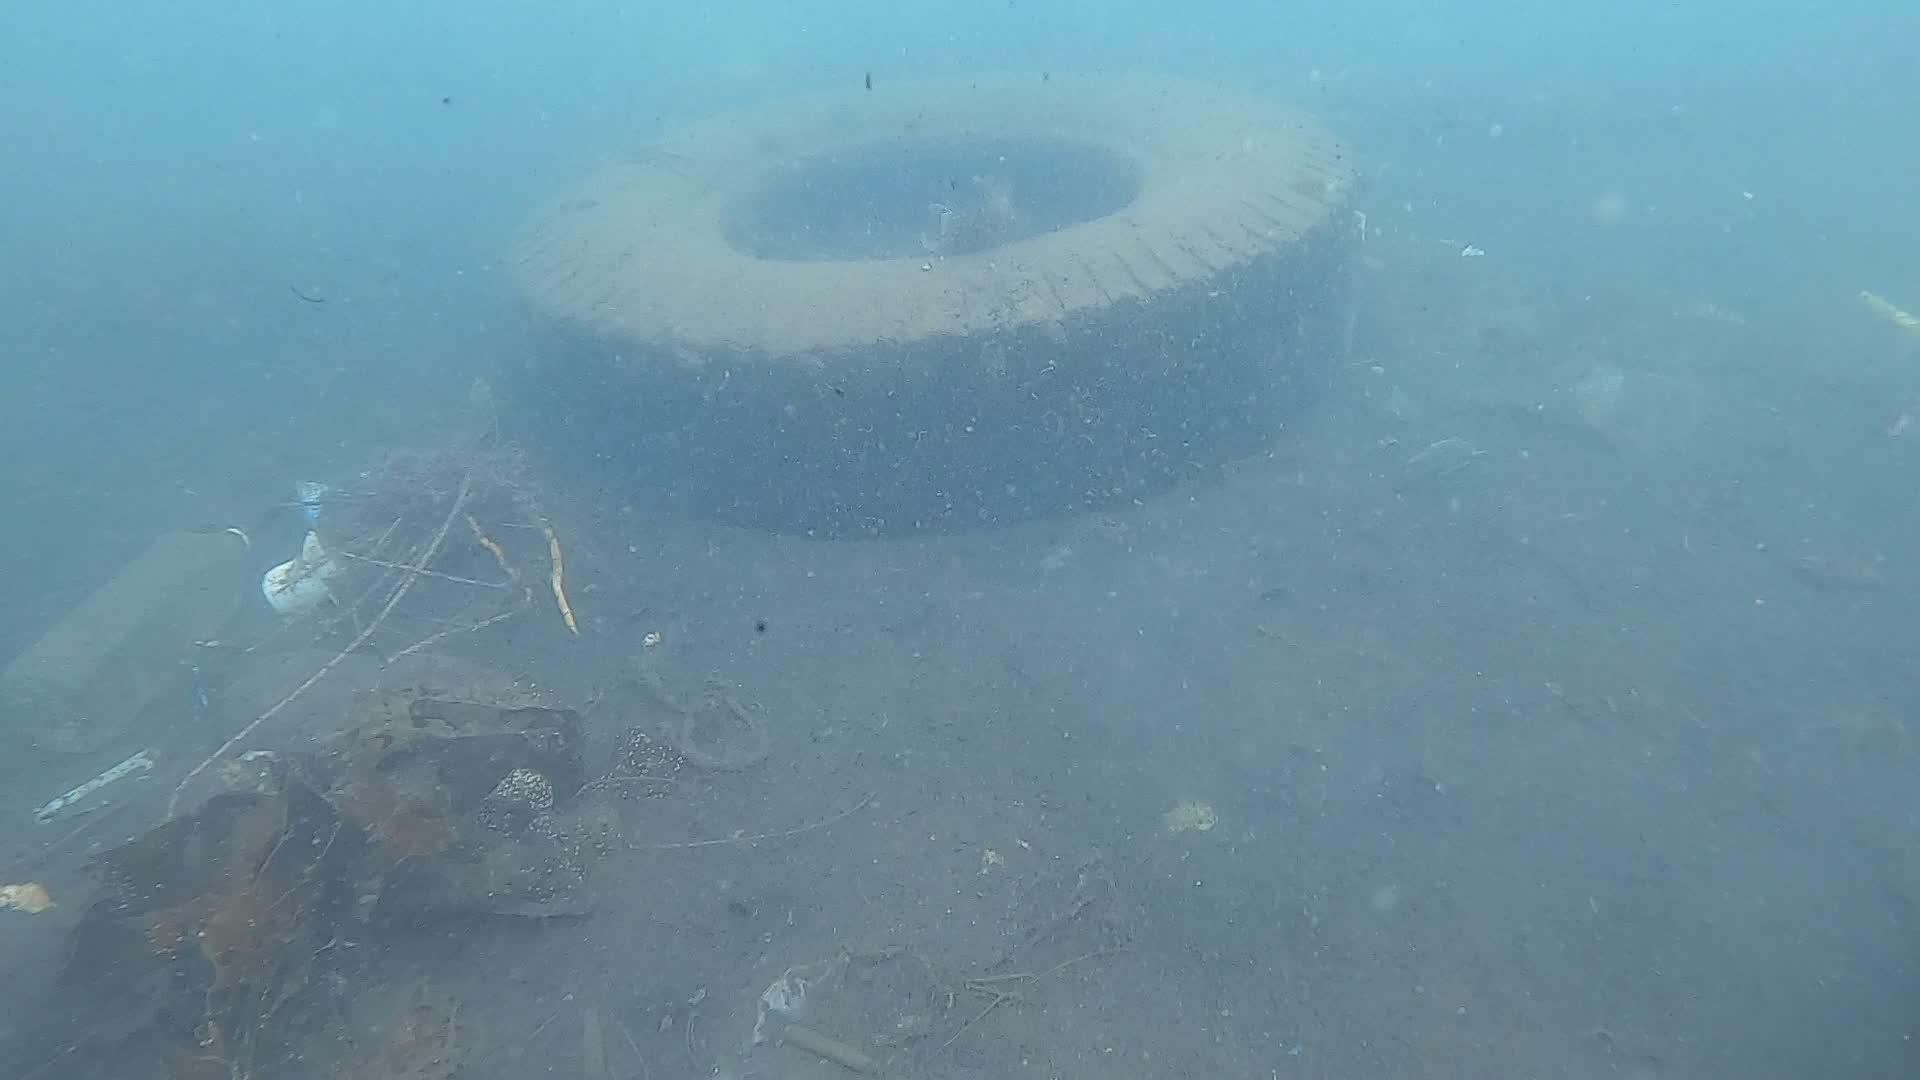tire: (505, 65, 1374, 542)
